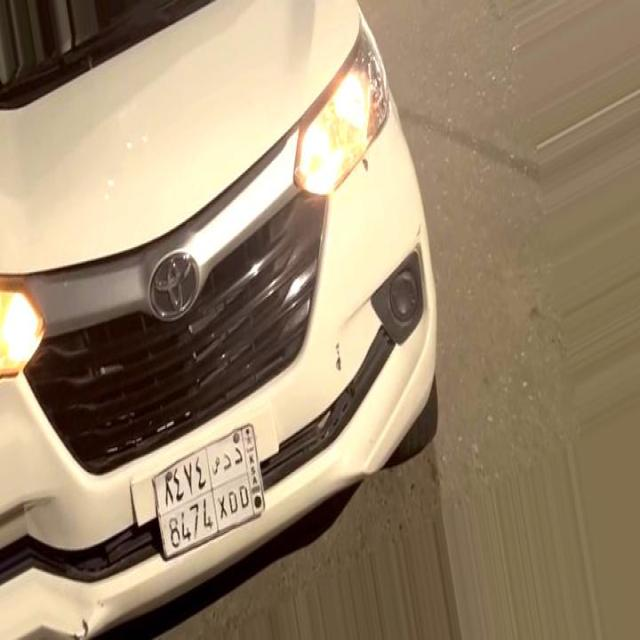Car-plate: (141, 401, 280, 598)
